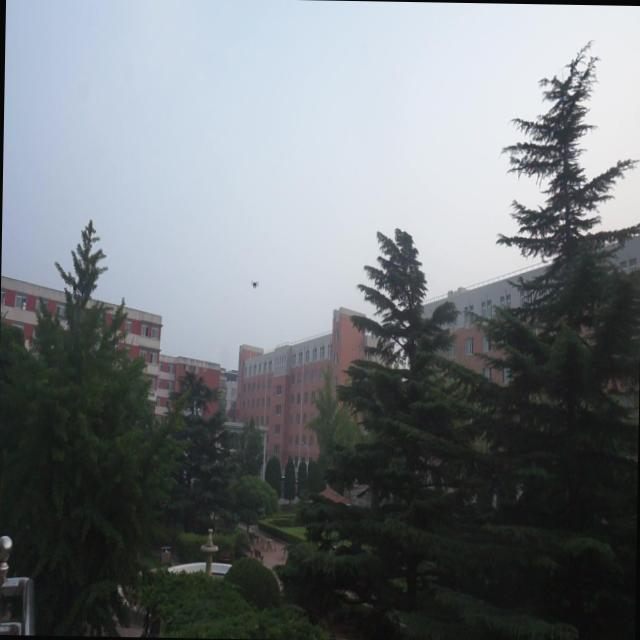drone: (248, 276, 261, 292)
